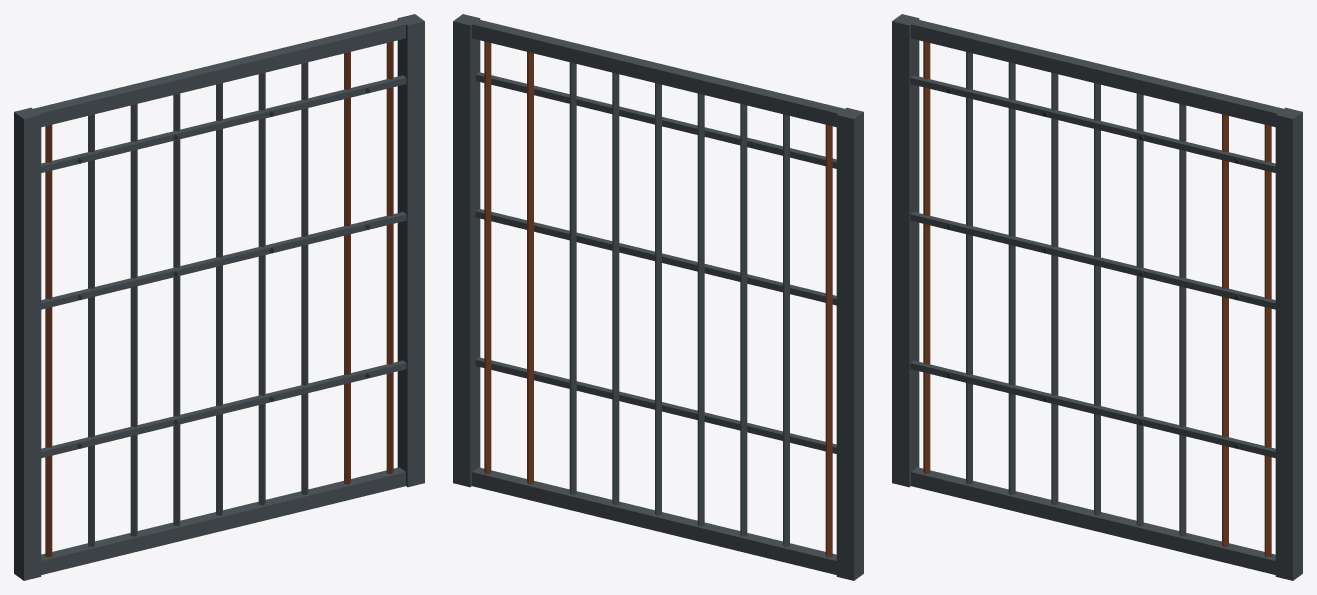
The model's file is mdvl_dungeon_bars_01.glb.
The picture shows the model from 3 angles, left to right: view 1: azimuth 30°, elevation 25°; view 2: azimuth 150°, elevation 25°; view 3: azimuth 330°, elevation 25°; orthographic projection.
Visible parts, largest first — view 1: mdvl_dungeon_bars_01; view 2: mdvl_dungeon_bars_01; view 3: mdvl_dungeon_bars_01.
Boxes of the visible parts, x1,y1,x2,y2 form: mdvl_dungeon_bars_01: (14, 14, 424, 580); mdvl_dungeon_bars_01: (453, 14, 863, 580); mdvl_dungeon_bars_01: (892, 14, 1302, 580).
Size of the model in its own units: 2.09 by 2.3 by 0.09.
1 material, 1 textured.
